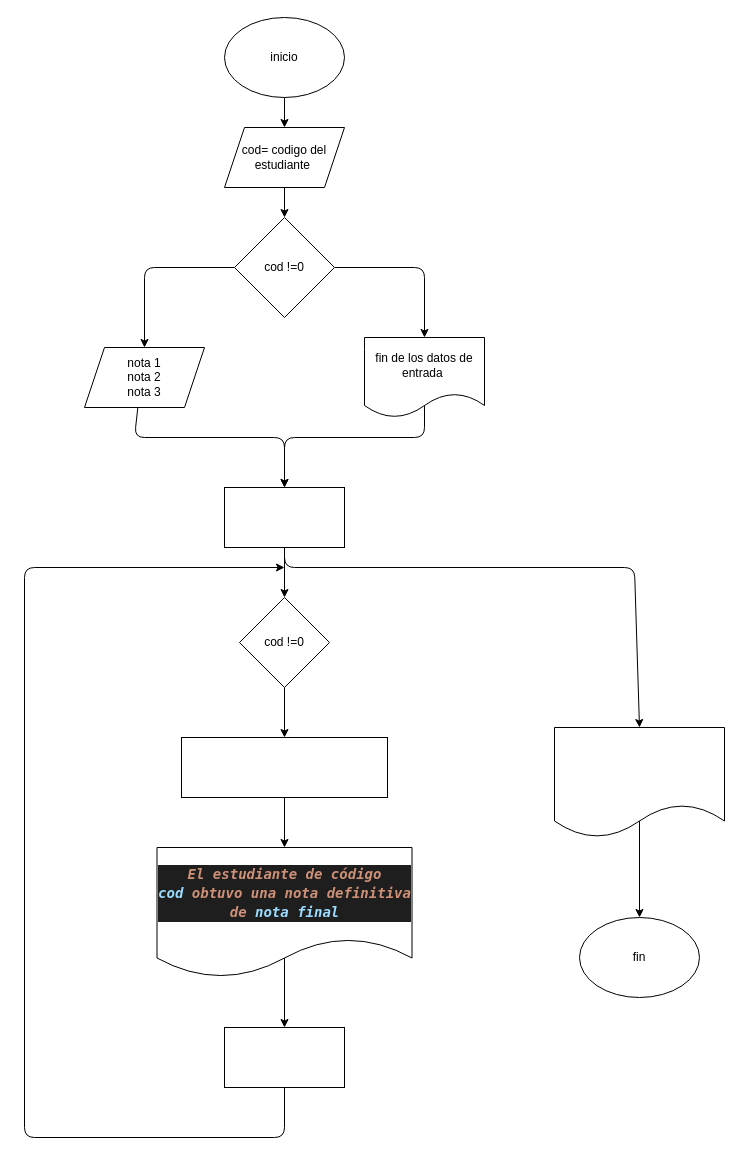
Some shapes in this 742 by 1163 pixel diagram are drawn without their labels. The shapes that lost their labels are listed below. From the top down, each one's box as (x1, y1, x2, y2) in pixels, then its label:
(224, 486, 344, 548): reprobados=0
(180, 736, 388, 798): nota final= (nota1+nota2+nota3)/3 reprobados=reprobados+1
(554, 726, 724, 838): la cantidad de estudaintes que reprovaron es
(224, 1026, 344, 1088): cod=0
